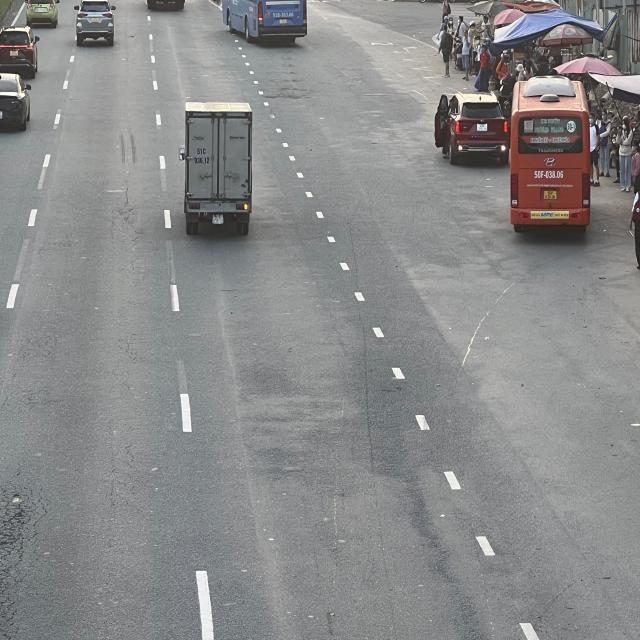car: (436, 92, 510, 162), (0, 28, 40, 76), (0, 73, 32, 132), (72, 0, 114, 43), (25, 0, 60, 25)
coach: (512, 76, 596, 232), (218, 0, 309, 41)
truck: (180, 101, 253, 233)
